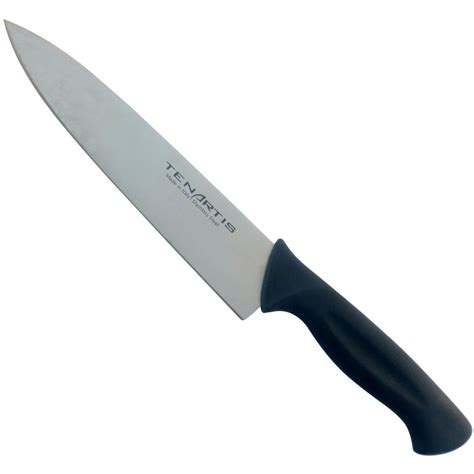knife: (3, 16, 469, 456)
